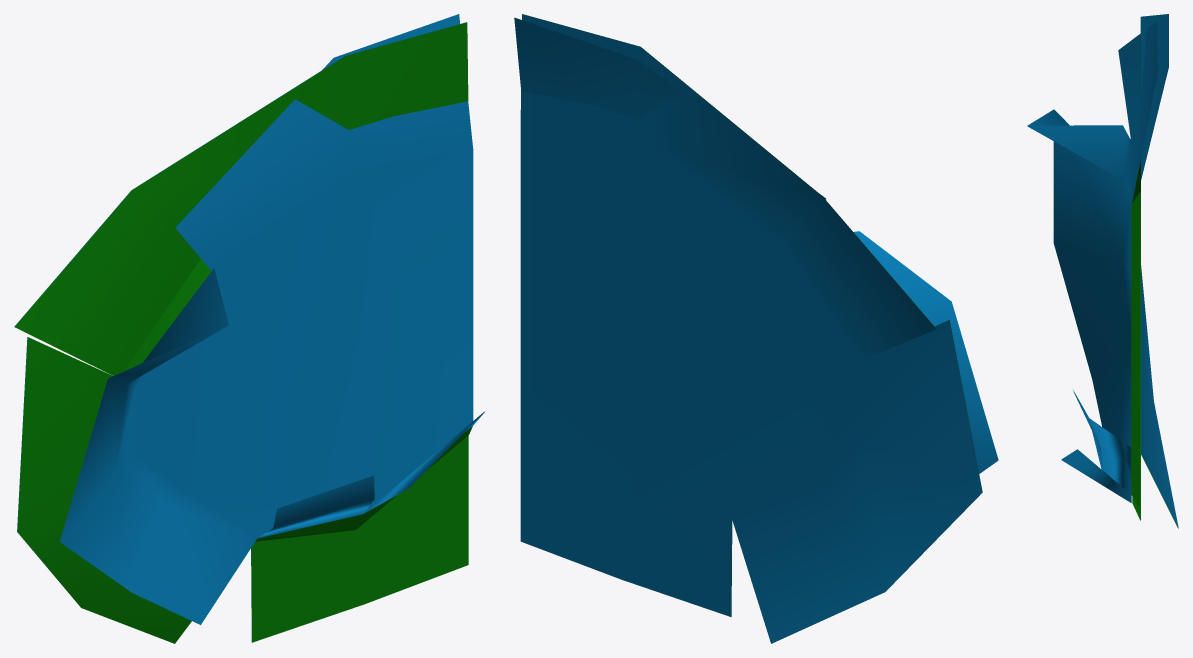
File: DBK_Drywall_Prop_Mid_C.fbx
3 views of the same model, side by side, from view 1: azimuth 30°, elevation 25°; view 2: azimuth 150°, elevation 25°; view 3: azimuth 270°, elevation 25° (orthographic). The views are drawn at different scales.
Parts seen in each view (by area): view 1: DBK_Drywall_Prop_Mid_C; view 2: DBK_Drywall_Prop_Mid_C; view 3: DBK_Drywall_Prop_Mid_C.
Part boxes in pixels (x1=…): DBK_Drywall_Prop_Mid_C: x1=14, y1=14, x2=484, y2=643; DBK_Drywall_Prop_Mid_C: x1=514, y1=14, x2=998, y2=643; DBK_Drywall_Prop_Mid_C: x1=1027, y1=14, x2=1178, y2=528.
Size of what is drawn, in the model's own units: 125 by 146 by 33.75.
